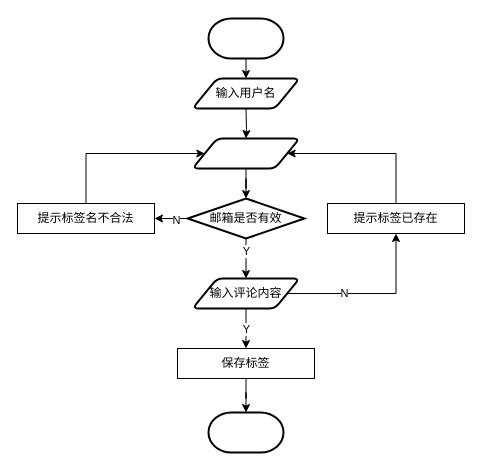
The diagram is 482 pixels wide and 470 high, and some of its shapes have lost their labels. Here are the shapes that lost their labels. From the top down, the centre of each, then its label:
At pixel 245 38: "开始".
At pixel 245 153: "输入邮箱".
At pixel 245 432: "结束".
